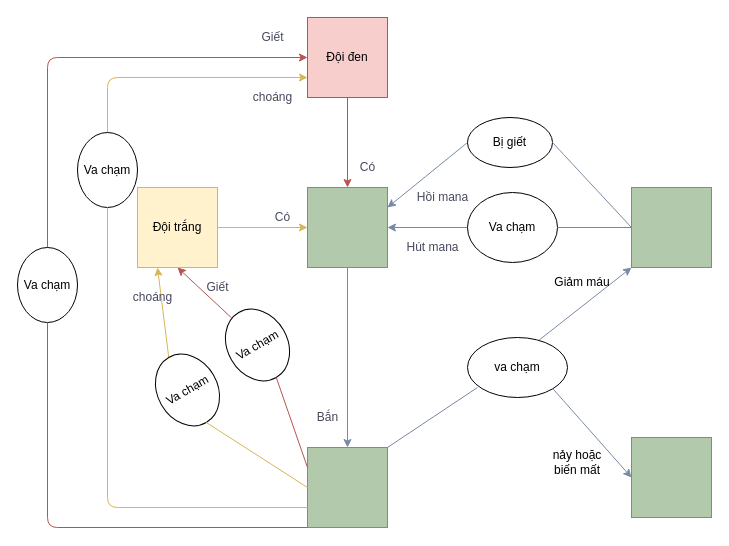
The diagram is 729 pixels wide and 546 high, and some of its shapes have lost their labels. The centre of each missing label's shape, as x and y in pixels:
"Người chơi" goes at pixel 347 227.
"NPC" goes at pixel 671 227.
"Viên đạn" goes at pixel 347 487.
"Vật cản" goes at pixel 671 477.
